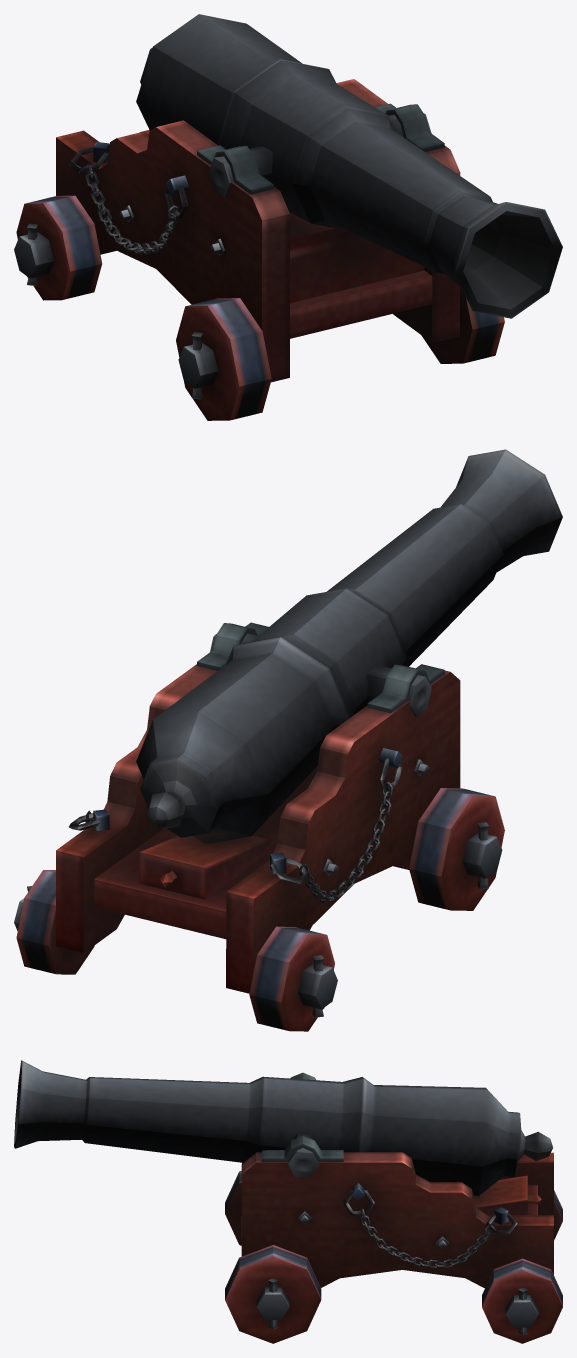
Rendered from cannon_mesh.obj.
The picture shows the model from 3 angles, top to bottom: view 1: azimuth 30°, elevation 25°; view 2: azimuth 150°, elevation 25°; view 3: azimuth 270°, elevation 25°; orthographic projection. The views are drawn at different scales.
Parts seen in each view (by area): view 1: cannon_body_cannon_mesh; view 2: cannon_body_cannon_mesh; view 3: cannon_body_cannon_mesh.
Boxes of the visible parts, x1,y1,x2,y2 form: cannon_body_cannon_mesh: [14, 14, 562, 420]; cannon_body_cannon_mesh: [14, 449, 562, 1031]; cannon_body_cannon_mesh: [14, 1060, 562, 1343].
Size of the model in its own units: 1.08 by 1.05 by 2.25.
Materials: 1 (1 with a texture image).
